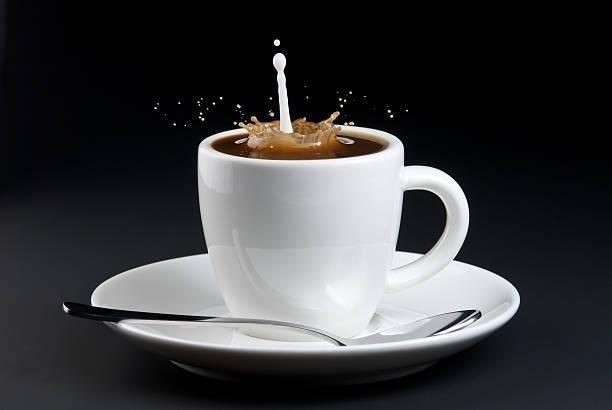cup-handle: (196, 121, 470, 341)
